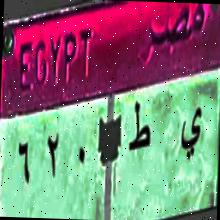0: (76, 142, 88, 173)
2: (42, 124, 62, 184)
6: (15, 136, 31, 190)
Taa: (125, 97, 156, 158)
yaa: (176, 102, 204, 166)
